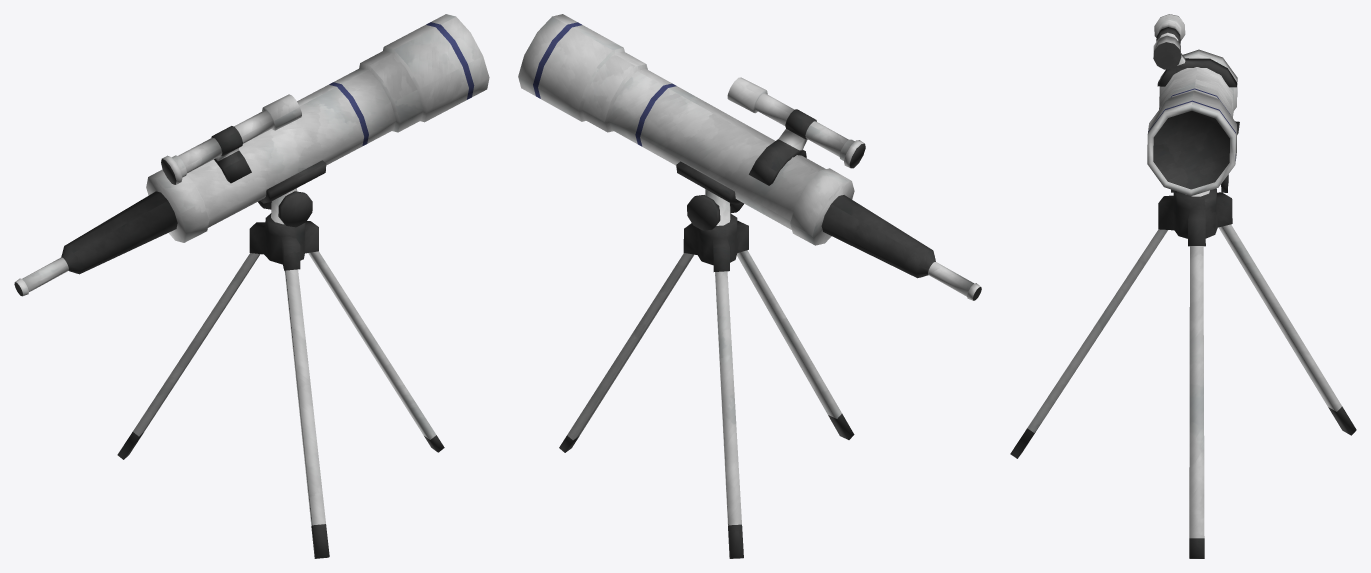
The model's file is Telescope.glb.
The picture shows the model from 3 angles, left to right: view 1: azimuth 30°, elevation 25°; view 2: azimuth 150°, elevation 25°; view 3: azimuth 270°, elevation 25°; orthographic projection. The views are drawn at different scales.
Parts seen in each view (by area): view 1: Telescope; view 2: Telescope; view 3: Telescope.
Boxes of the visible parts, bbox=[...] form: Telescope: bbox=[14, 14, 489, 558]; Telescope: bbox=[518, 14, 981, 558]; Telescope: bbox=[1010, 14, 1356, 558].
Bounding box in the file's own units: 139 × 126 × 85.06.
1 material, 1 textured.
